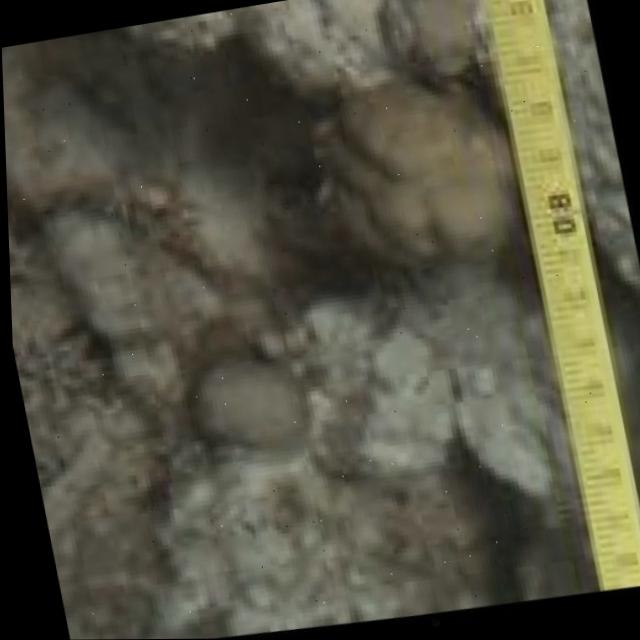Bleached Coral: (304, 273, 599, 551), (110, 0, 406, 119)
